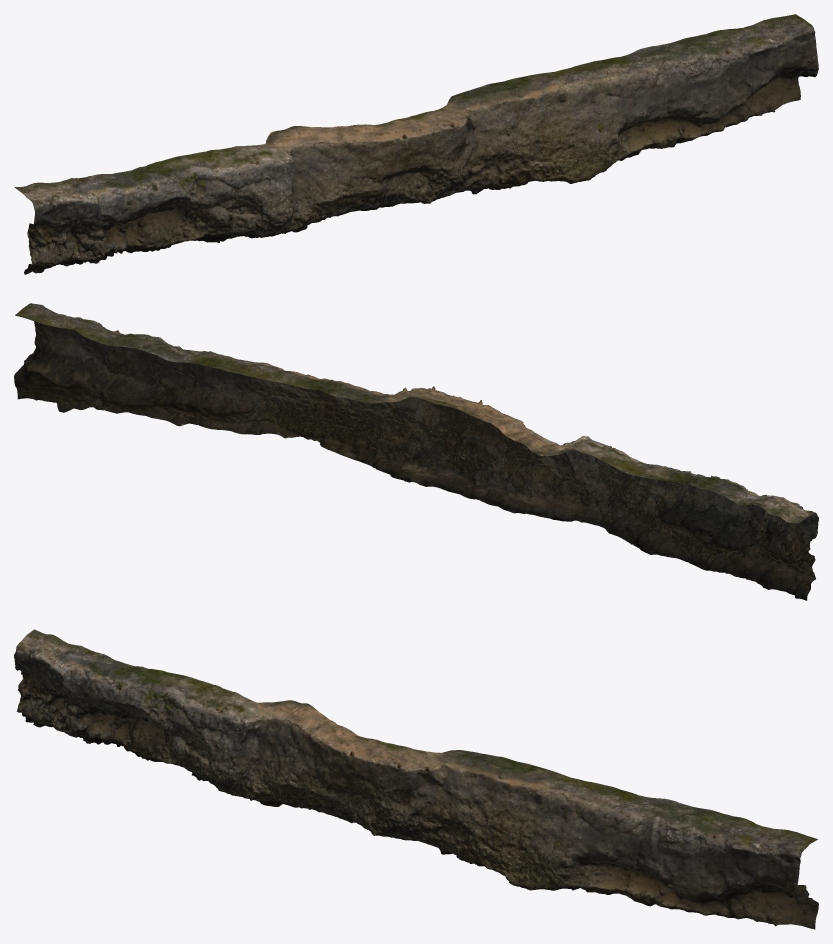
File: coastal_cliff_01.glb
3 views of the same model, one above another, from view 1: azimuth 30°, elevation 25°; view 2: azimuth 150°, elevation 25°; view 3: azimuth 330°, elevation 25° (orthographic). The views are drawn at different scales.
Visible parts, largest first — view 1: coastal_cliff_01; view 2: coastal_cliff_01; view 3: coastal_cliff_01.
Boxes of the visible parts, x1,y1,x2,y2 form: coastal_cliff_01: (14, 14, 818, 274); coastal_cliff_01: (14, 303, 818, 600); coastal_cliff_01: (14, 629, 818, 929).
Size of the model in its own units: 91.98 by 10.33 by 10.97.
1 material, 1 textured.
